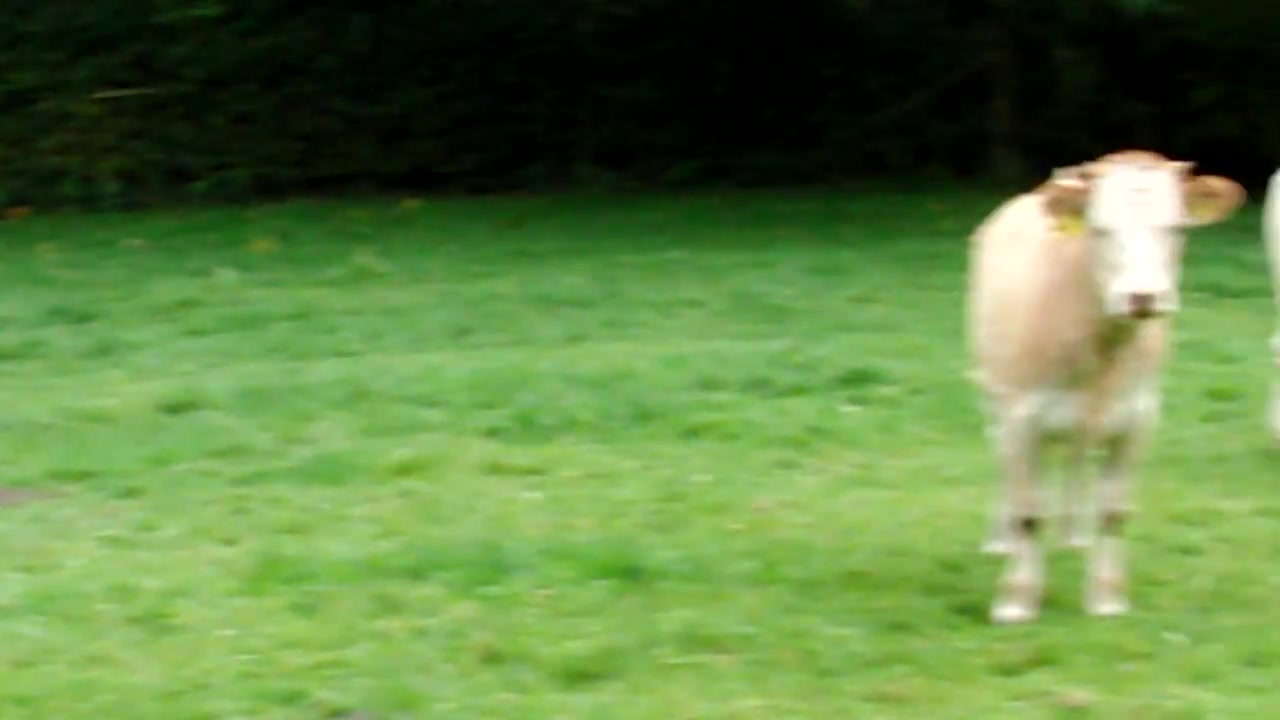cow: (962, 139, 1243, 629)
